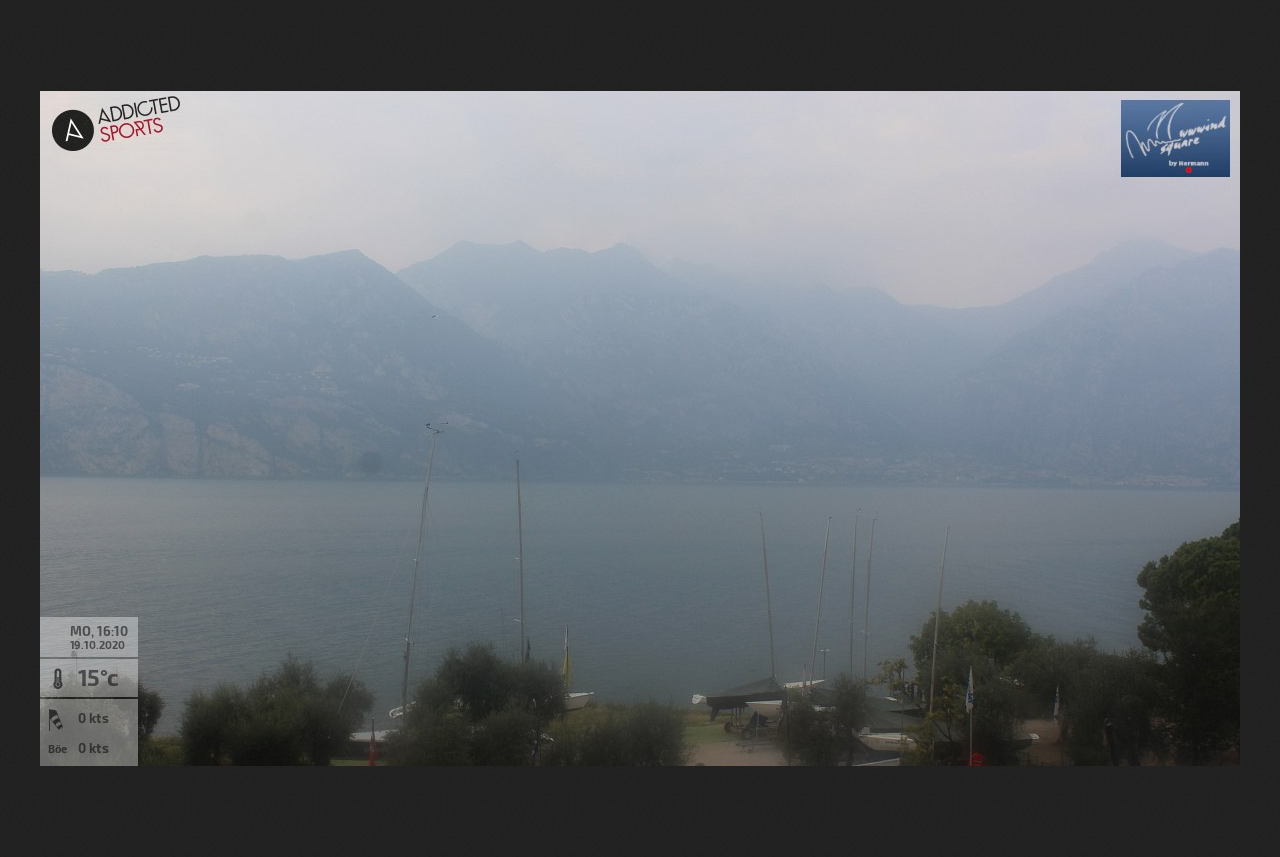no: (1050, 679, 1067, 729), (962, 670, 978, 713), (525, 630, 534, 665), (563, 623, 569, 652)
